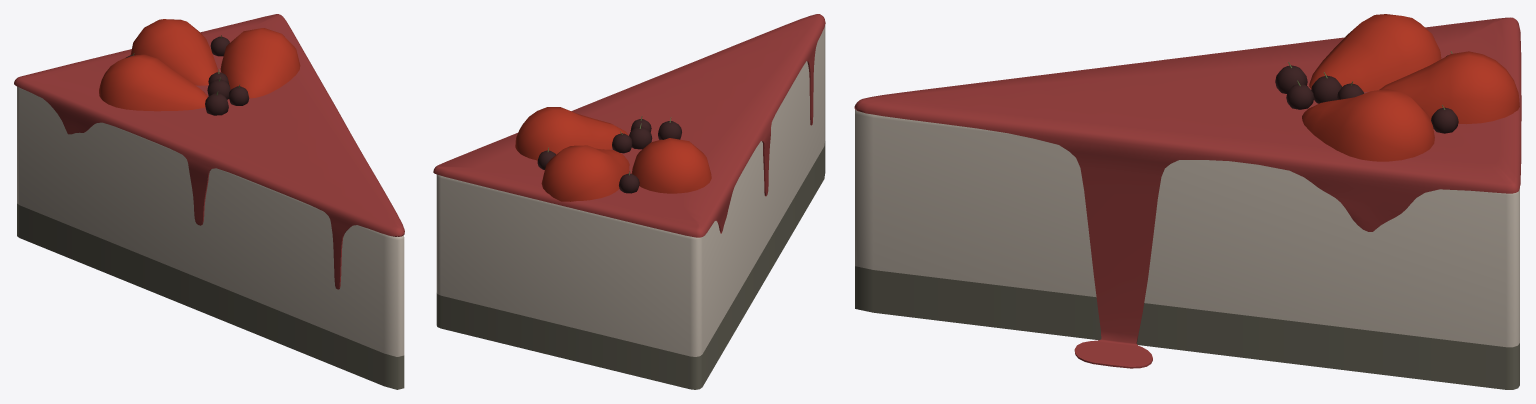
Rendered from berrycake.gltf.
3 views of the same model, side by side, from view 1: azimuth 30°, elevation 25°; view 2: azimuth 150°, elevation 25°; view 3: azimuth 270°, elevation 25° (orthographic). The views are drawn at different scales.
Visible parts, largest first — view 1: Cake, Fruit_coulis, Strawberry_1, Strawberry_3, Strawberry_2, Berry_1, Berry_2; view 2: Cake, Fruit_coulis, Strawberry_2, Strawberry_3, Strawberry_1, Berry_3, Berry_1, Berry_5, Berry_4; view 3: Cake, Fruit_coulis, Strawberry_3, Strawberry_1, Strawberry_2, Berry_3, Berry_1, Berry_2, Berry_6.
Boxes of the visible parts, bbox=[...] form: Cake: bbox=[17, 86, 404, 389]; Fruit_coulis: bbox=[14, 14, 404, 289]; Strawberry_1: bbox=[99, 54, 207, 111]; Strawberry_3: bbox=[220, 28, 300, 98]; Strawberry_2: bbox=[130, 19, 217, 85]; Berry_1: bbox=[205, 91, 228, 115]; Berry_2: bbox=[228, 85, 249, 105]; Cake: bbox=[436, 25, 825, 389]; Fruit_coulis: bbox=[433, 14, 825, 237]; Strawberry_2: bbox=[541, 145, 629, 201]; Strawberry_3: bbox=[515, 107, 628, 160]; Strawberry_1: bbox=[631, 138, 711, 193]; Berry_3: bbox=[629, 123, 652, 149]; Berry_1: bbox=[658, 117, 681, 139]; Berry_5: bbox=[619, 170, 639, 193]; Berry_4: bbox=[612, 131, 632, 153]; Cake: bbox=[855, 109, 1519, 389]; Fruit_coulis: bbox=[854, 17, 1521, 368]; Strawberry_3: bbox=[1302, 89, 1434, 161]; Strawberry_1: bbox=[1309, 14, 1441, 92]; Strawberry_2: bbox=[1379, 51, 1519, 124]; Berry_3: bbox=[1311, 72, 1341, 103]; Berry_1: bbox=[1275, 62, 1307, 93]; Berry_2: bbox=[1286, 80, 1313, 109]; Berry_6: bbox=[1431, 105, 1458, 133].
Size of the model in its own units: 1.49 by 1.03 by 2.46.
